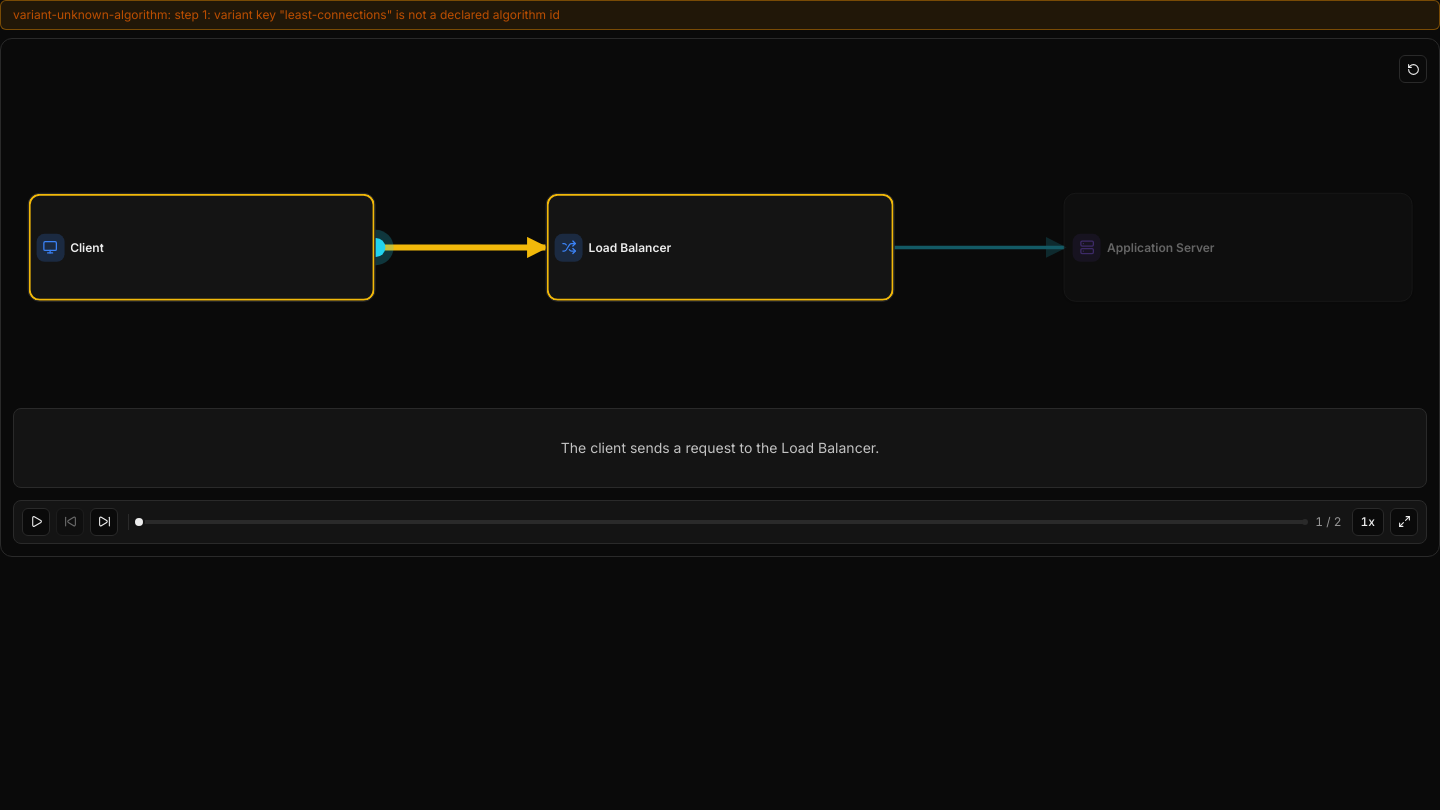
Scenario: Walkthrough › advances to the next step's caption and disables Previous at the start
Expected: the button named "previous step" is disabled, [56, 508, 84, 536]
Click the button named "next step".
click(104, 522)  # box [90, 508, 118, 536]
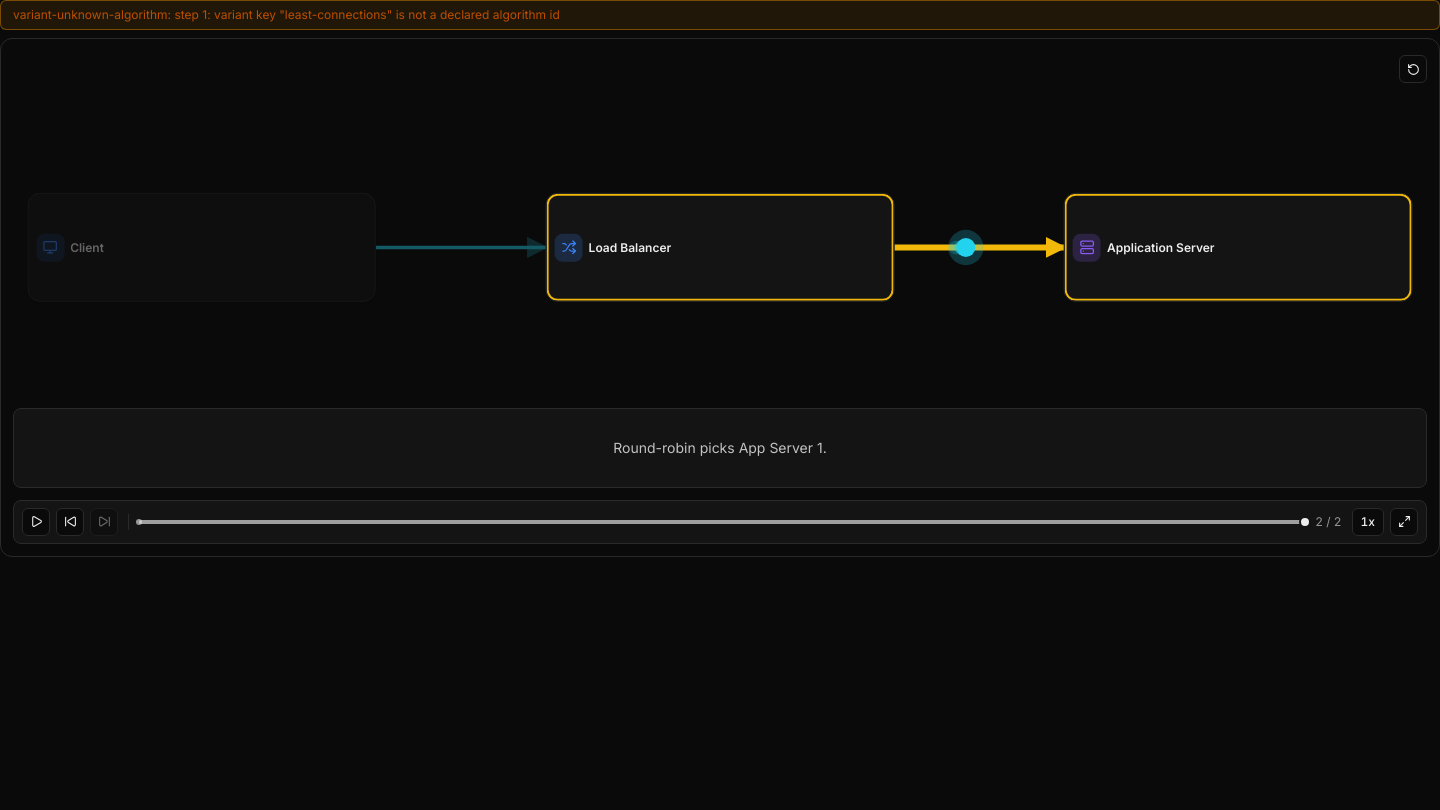
Expected: the text "2 / 2" is shown, [1315, 514, 1342, 529]
Expected: the text "Round-robin picks App Server 1." is shown, [613, 437, 827, 459]
Expected: the button named "next step" is disabled, [90, 508, 118, 536]
